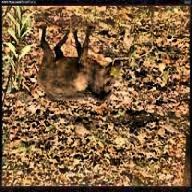boar: (35, 25, 122, 105)
